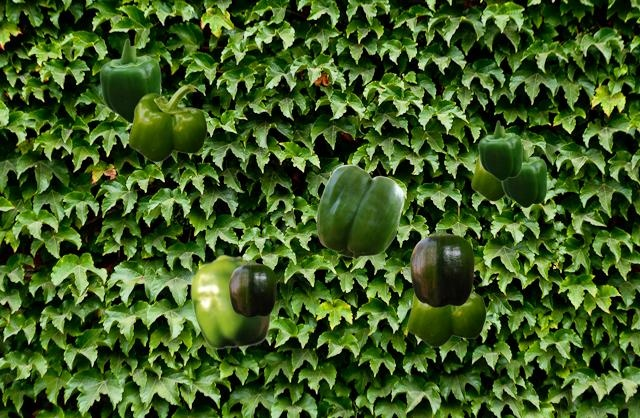bell_pepper: (316, 164, 403, 258), (190, 254, 271, 348), (128, 84, 206, 161), (407, 273, 485, 346), (99, 38, 160, 123), (410, 229, 473, 306), (471, 142, 525, 200), (501, 143, 546, 207), (478, 120, 521, 180), (229, 260, 275, 316)
